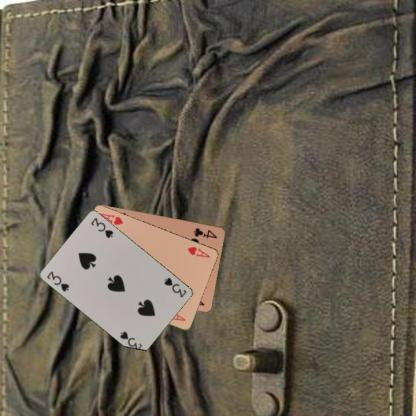3s: (162, 275, 188, 299), (44, 269, 70, 293)
4c: (192, 225, 219, 240)
Ah: (185, 244, 211, 259)
